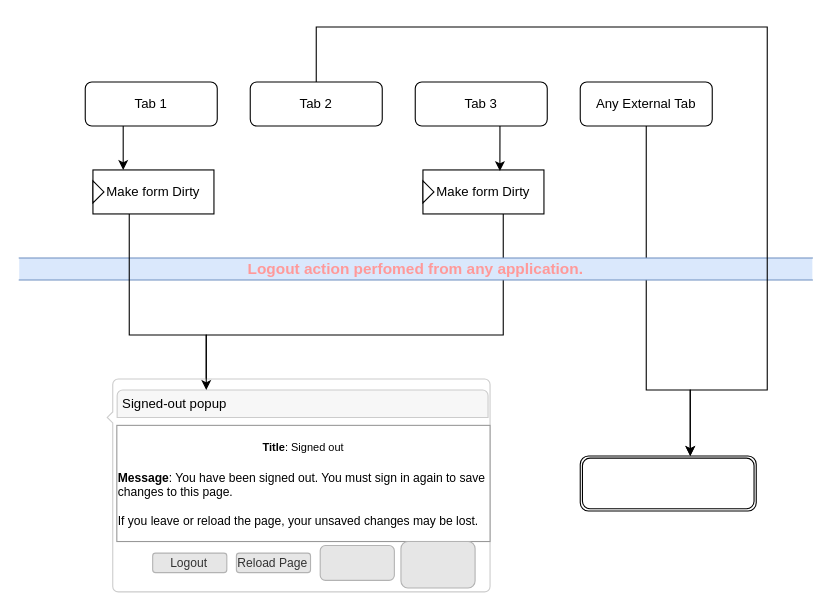
The diagram is 832 pixels wide and 612 high, and some of its shapes have lost their labels. The centre of each missing label's shape, as x and y in pixels:
> Logged out > Show login screen: (x=667, y=483)
Force Logout from all open tab: (x=437, y=564)
Verify user & continue: (x=356, y=562)
